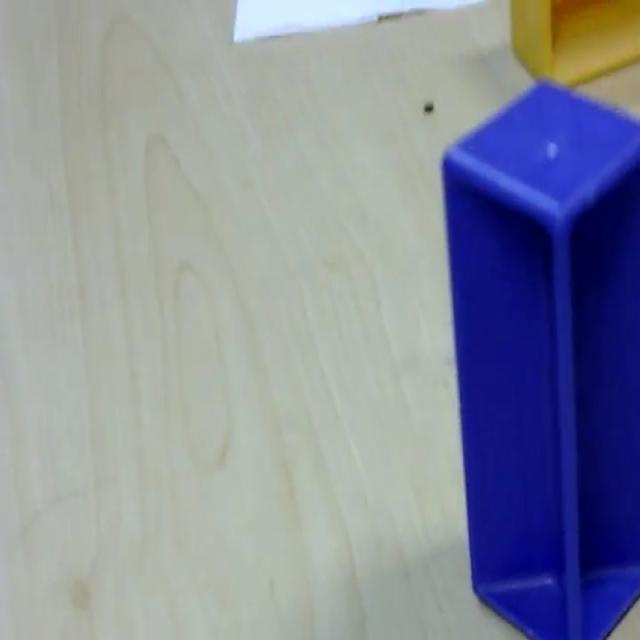blue_block: (439, 76, 638, 636)
yellow_block: (509, 0, 638, 87)
